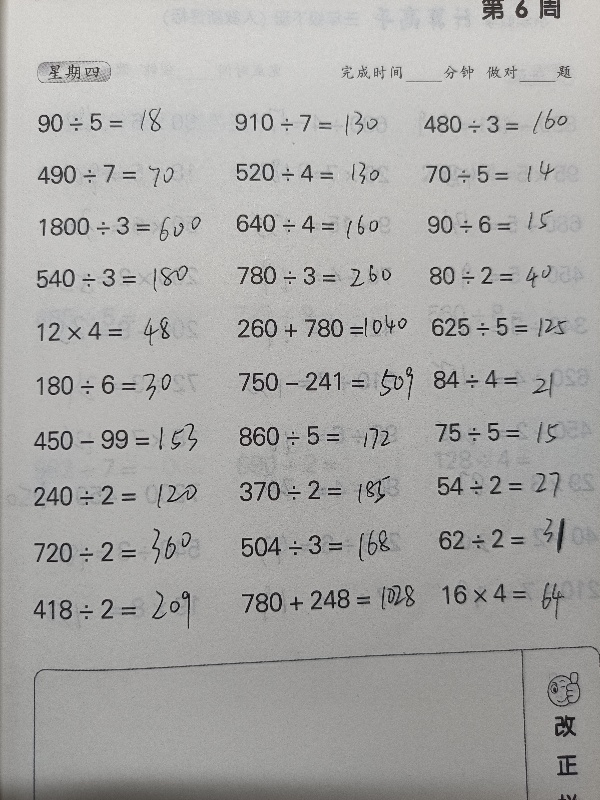equation: (25, 522, 214, 569), (232, 525, 412, 572), (26, 416, 206, 459), (29, 366, 209, 408), (32, 209, 212, 250), (236, 578, 423, 617), (227, 207, 407, 246), (422, 309, 589, 351), (420, 258, 595, 297), (232, 472, 412, 509), (429, 512, 583, 555), (235, 308, 408, 346), (24, 591, 204, 627), (26, 478, 206, 514), (424, 362, 582, 403), (230, 418, 410, 453), (229, 364, 409, 399), (27, 260, 207, 295), (229, 257, 409, 292), (29, 104, 209, 139), (433, 576, 586, 617), (29, 314, 209, 348), (28, 157, 208, 191), (227, 155, 407, 189), (418, 158, 598, 191), (416, 108, 596, 141), (227, 106, 407, 139), (419, 208, 592, 242), (427, 415, 585, 451), (428, 468, 580, 499)
